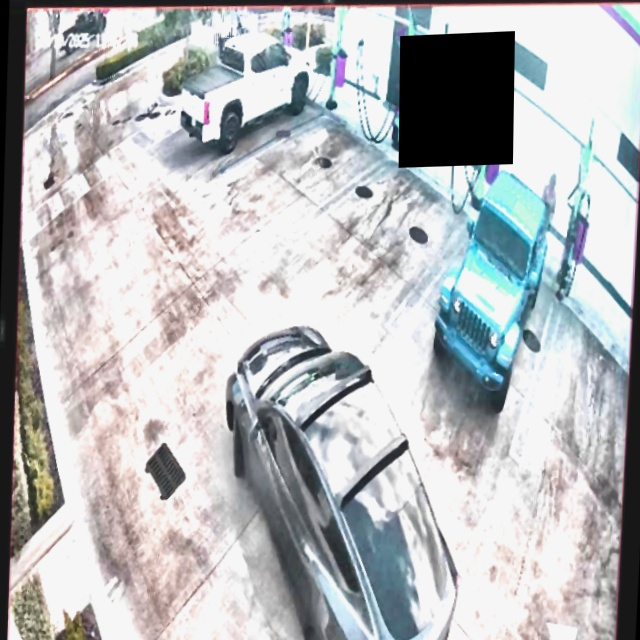Car: (218, 305, 470, 640), (433, 166, 553, 411)
